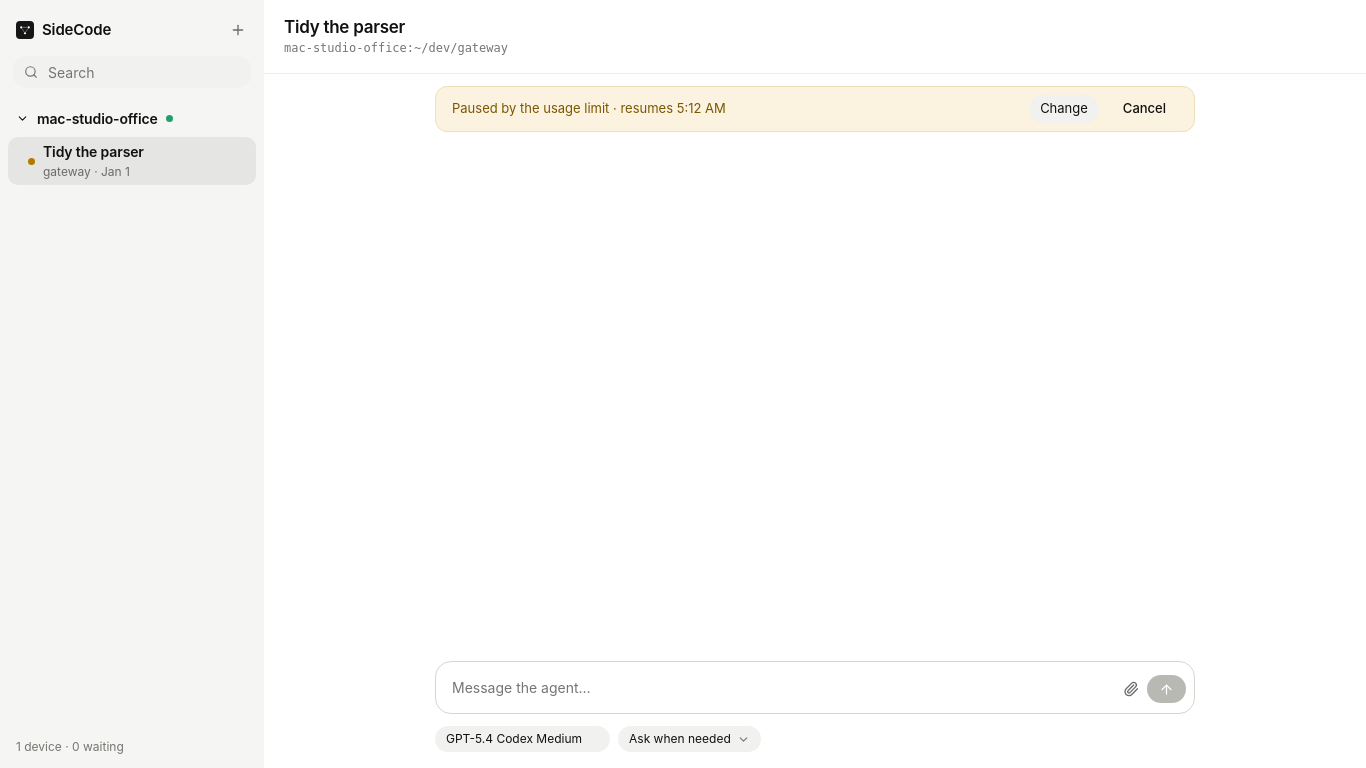
Test case: the pending resume above the transcript › says so under the transcript when the cancel fails
Click the button "Cancel" at [1144, 109], box [1111,95,1178,123]
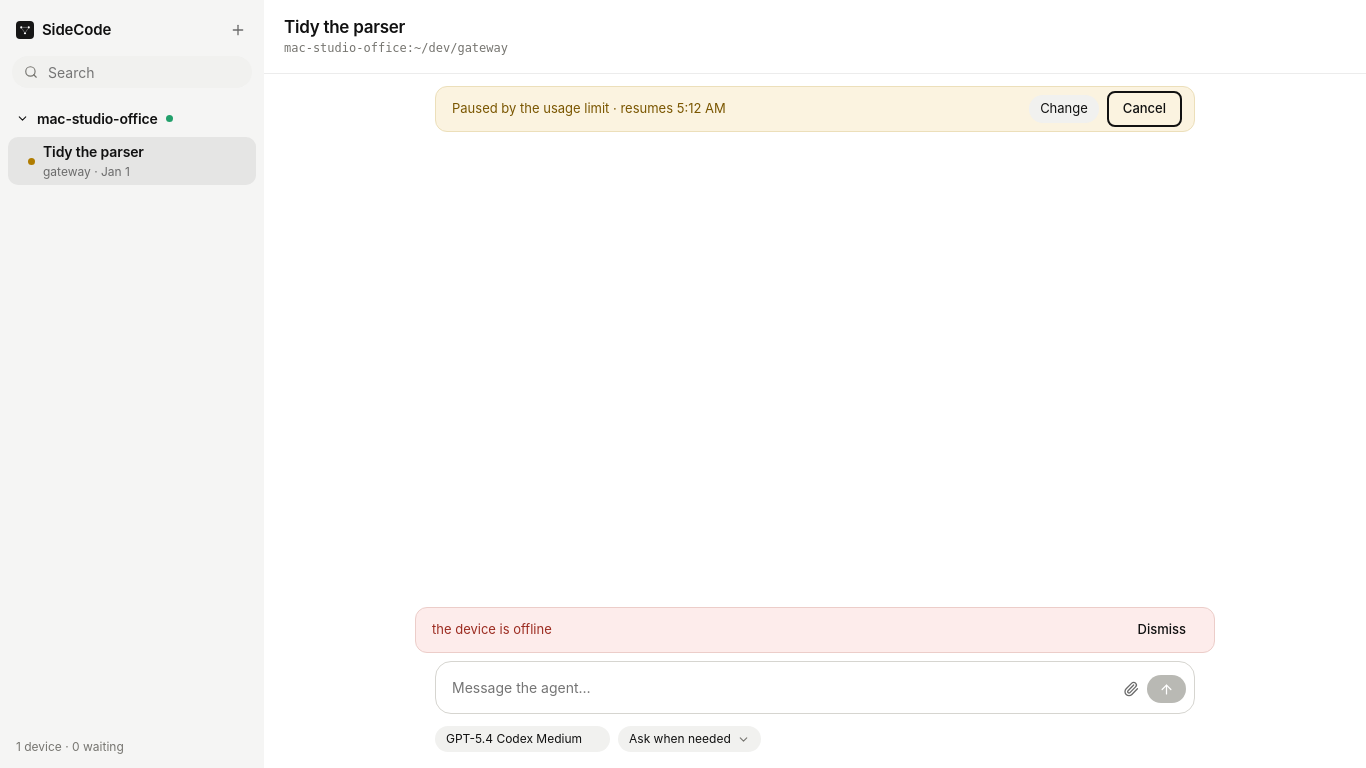
Expected: the message "Paused by the usage limit · resumes 5:12 AM Change Cancel" is shown, [435,86,1195,132]
Expected: the text "the device is offline" is shown, [432,621,552,637]
